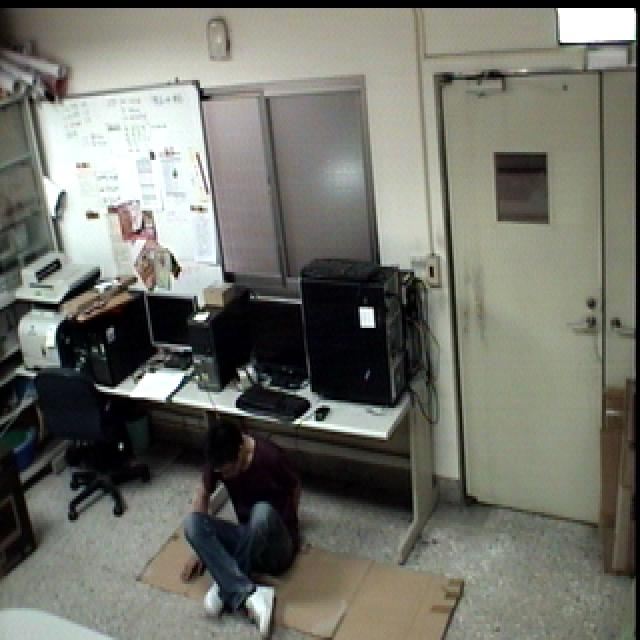sit: (175, 410, 316, 640)
